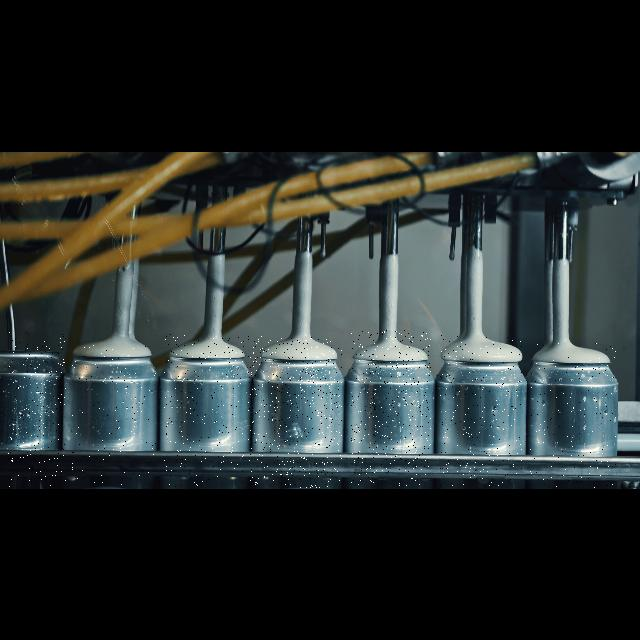empty: (8, 332, 66, 488)
full: (248, 336, 342, 488), (351, 330, 431, 488), (440, 334, 522, 488), (530, 342, 616, 488), (164, 334, 244, 488), (72, 344, 156, 488)
